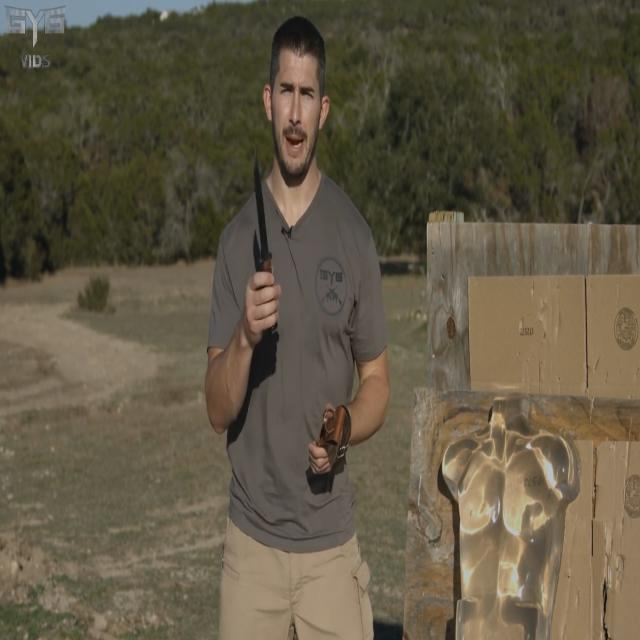knife: (252, 148, 283, 342)
